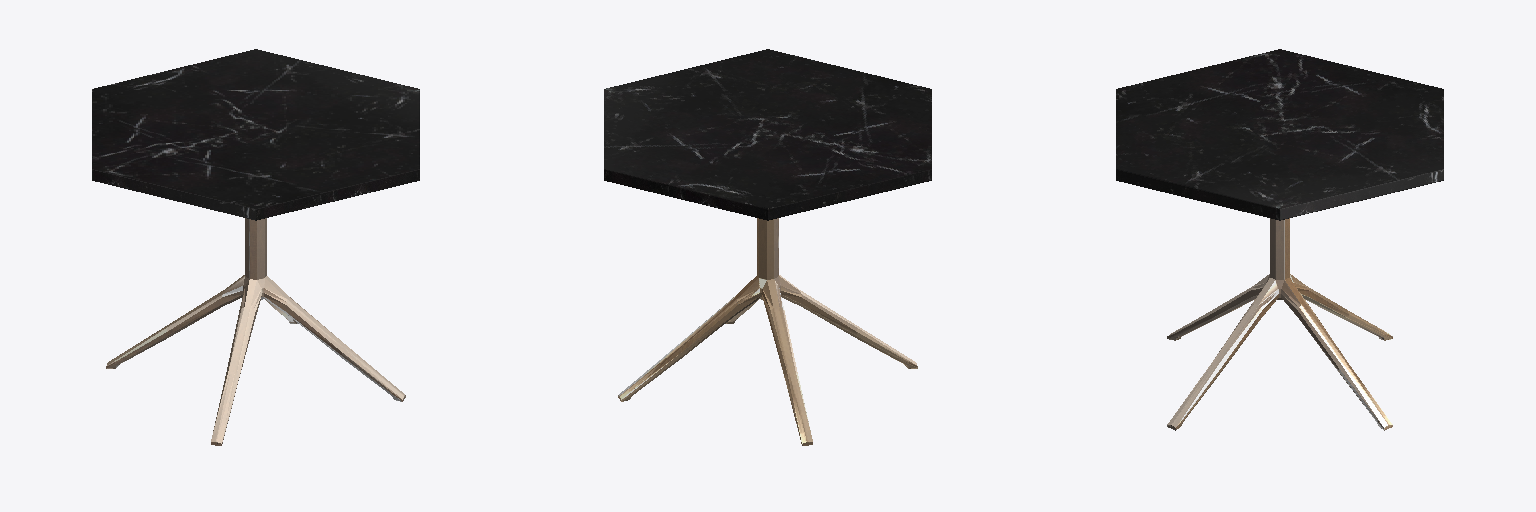
The picture shows the model from 3 angles: view 1: azimuth 30°, elevation 25°; view 2: azimuth 150°, elevation 25°; view 3: azimuth 270°, elevation 25°; orthographic projection.
Parts seen in each view (by area): view 1: solid_002, solid_001; view 2: solid_002, solid_001; view 3: solid_002, solid_001.
Part boxes in pixels (left/top/right/bottom): solid_002: left=92, top=49, right=419, bottom=220; solid_001: left=106, top=218, right=405, bottom=445; solid_002: left=604, top=49, right=931, bottom=220; solid_001: left=618, top=218, right=917, bottom=445; solid_002: left=1116, top=49, right=1443, bottom=220; solid_001: left=1167, top=218, right=1392, bottom=430.
Size of the model in its own units: 0.9587 by 0.708 by 0.8302.
1 materials, 1 textured.